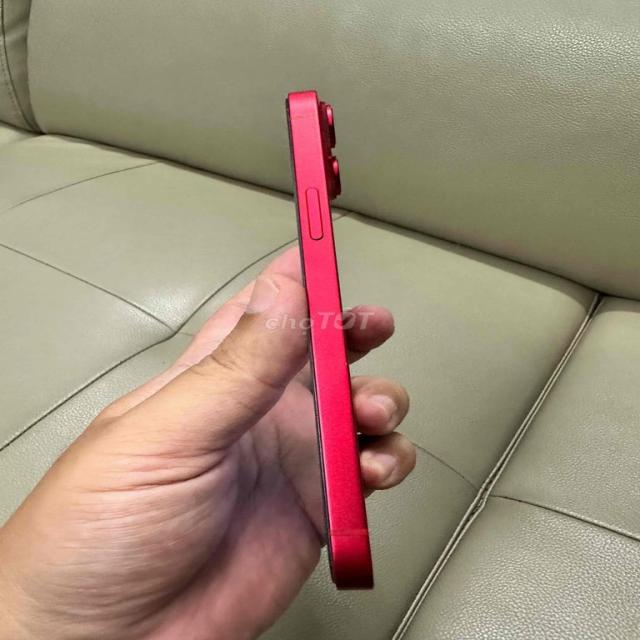gen_14: (283, 73, 394, 593)
